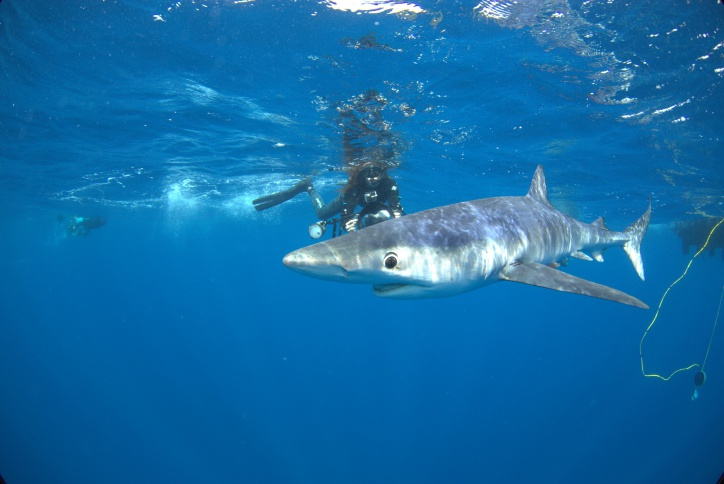Azul: (268, 150, 664, 334)
